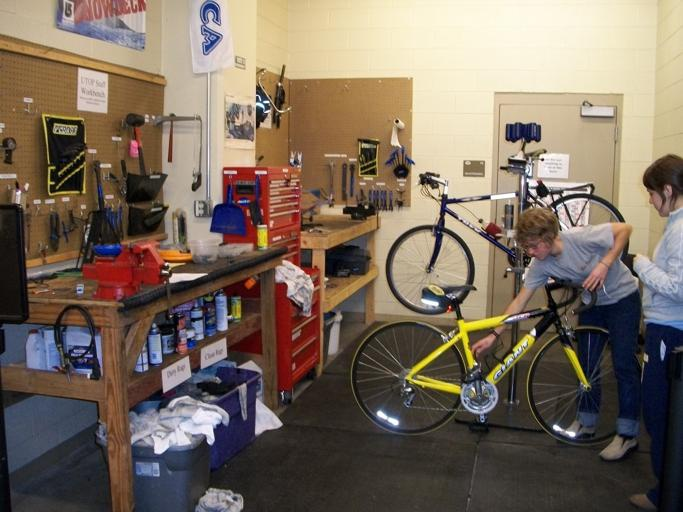non-vehicle: (350, 277, 641, 446), (386, 148, 628, 314)
